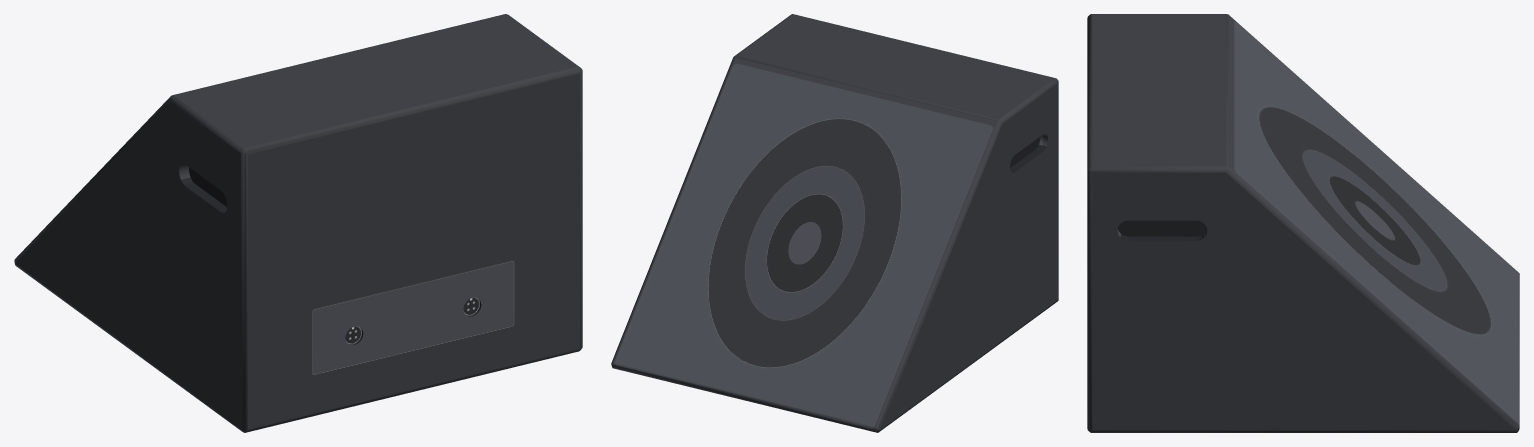
The model's file is nexo-45n12.glb.
3 renders of one model, left to right at view 1: azimuth 30°, elevation 25°; view 2: azimuth 150°, elevation 25°; view 3: azimuth 270°, elevation 25°, orthographic. The views are drawn at different scales.
Parts seen in each view (by area): view 1: nexo-45n12-body; view 2: nexo-45n12-body; view 3: nexo-45n12-body.
Boxes of the visible parts, <box> form: nexo-45n12-body: <box>14,14,582,432</box>; nexo-45n12-body: <box>611,14,1058,432</box>; nexo-45n12-body: <box>1087,14,1519,432</box>.
Bounding box in the file's own units: 0.492 × 0.392 × 0.576.
1 material, 1 textured.
